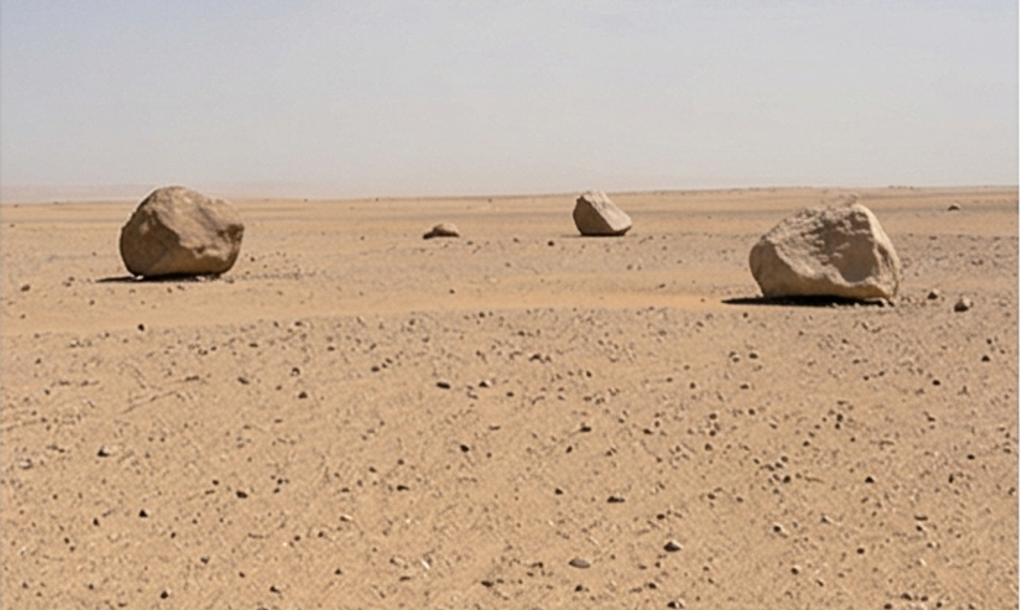rocks: (750, 196, 900, 300), (120, 186, 244, 275), (572, 190, 632, 236)
